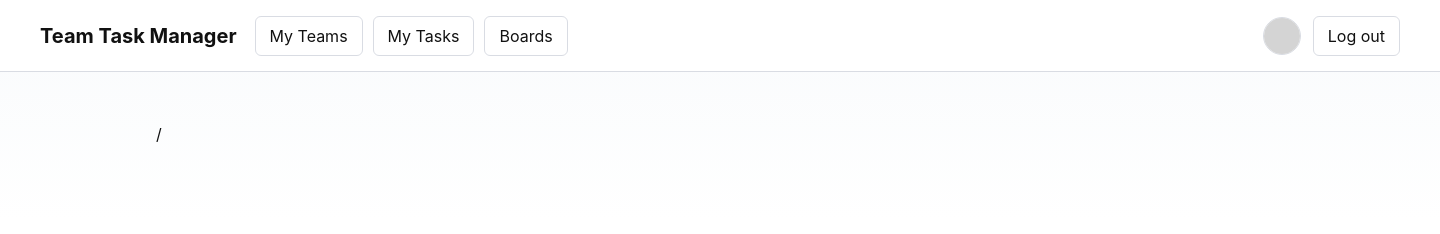
it: an authenticated user sees accessible boards grouped by team and can navigate to one
The image size is (1440, 234).
Step 1. Click the button "Boards" → (526, 36), box [484,16,568,56]
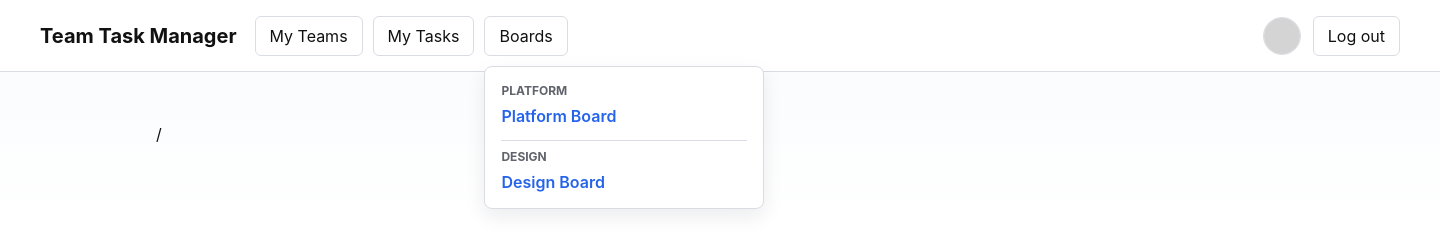
Expected: the heading "Platform" is shown, [501,82,567,98]
Expected: the heading "Design" is shown, [501,148,547,164]
Step 2. Click the link "Platform Board" → (559, 116), box [501,106,616,126]
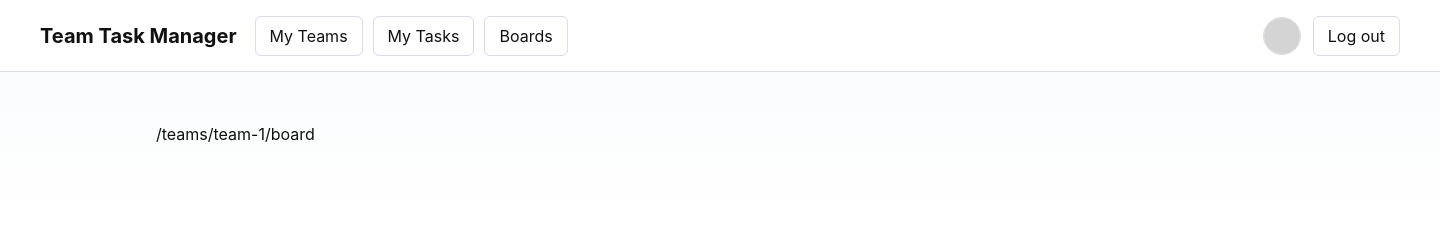
Expected: the text "/teams/team-1/board" is shown, [156,124,315,144]
Expected: the link "Platform Board" is gone
